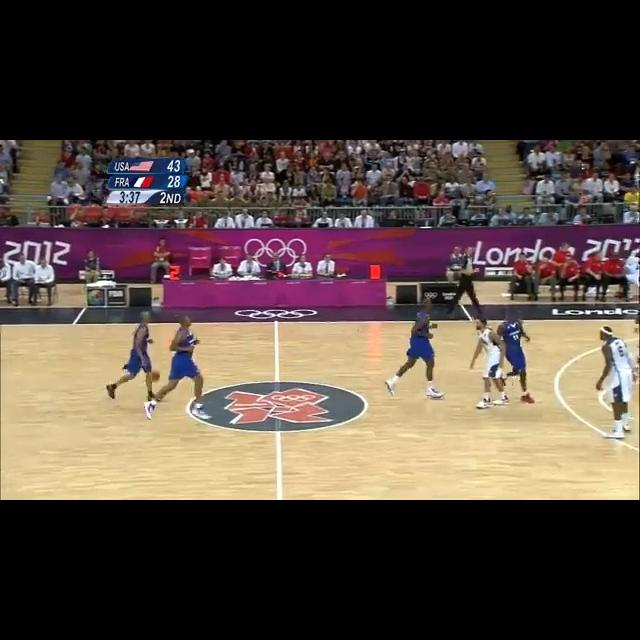basketball: (149, 371, 162, 384)
